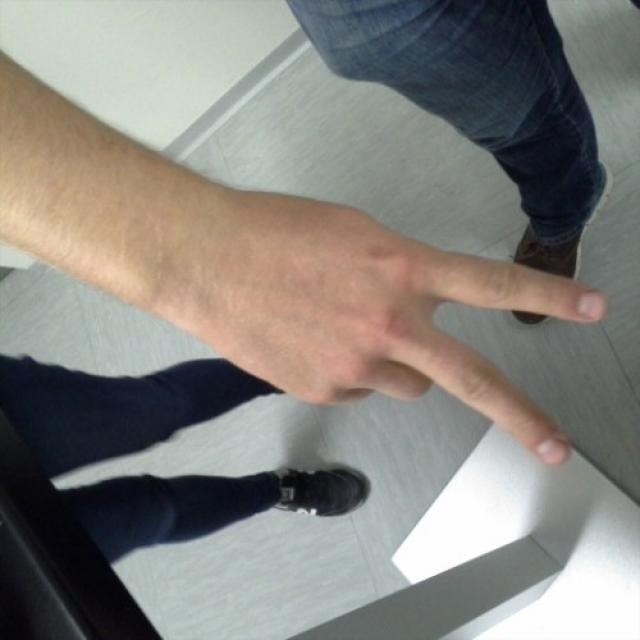scissors: (245, 192, 608, 472)
